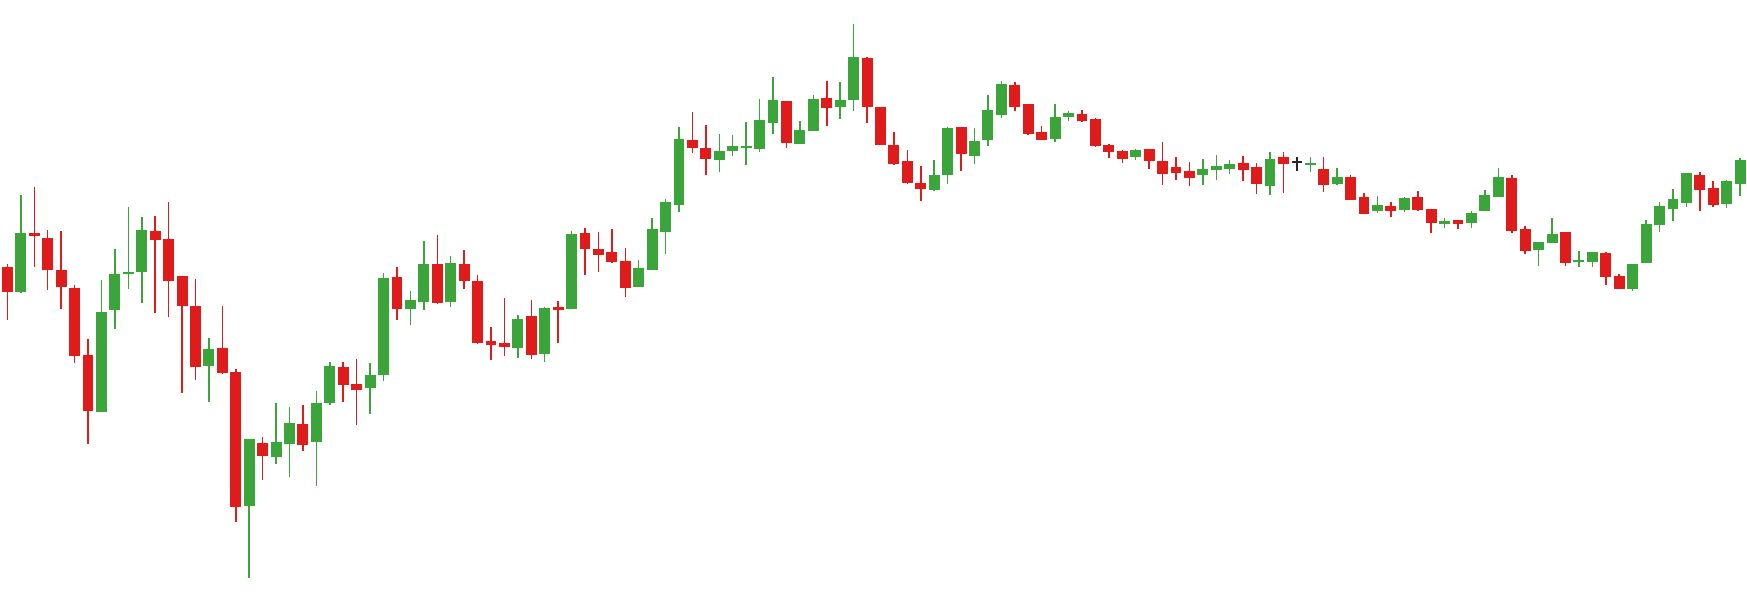sell: (765, 22, 875, 134)
